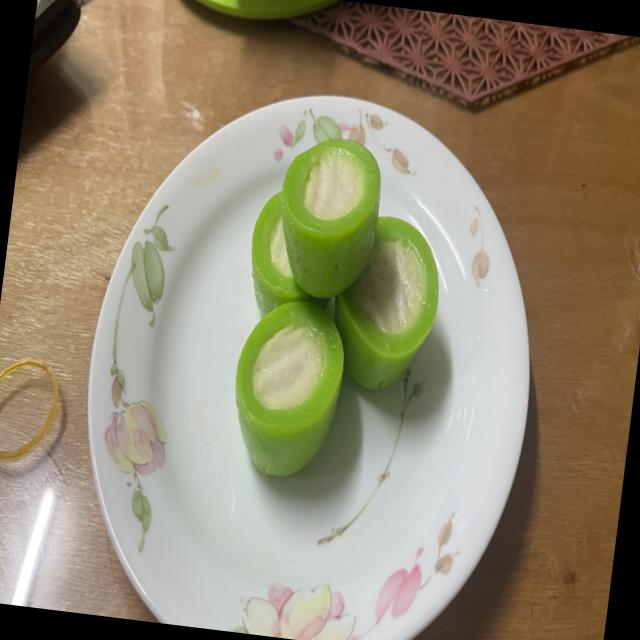nona-manis: (235, 301, 343, 476), (334, 216, 438, 390), (281, 136, 380, 298), (251, 192, 329, 317)
